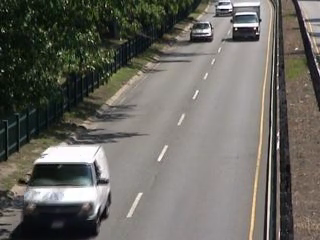car: (189, 20, 216, 43), (213, 1, 234, 18)
truck: (20, 143, 114, 236), (232, 1, 262, 42)
